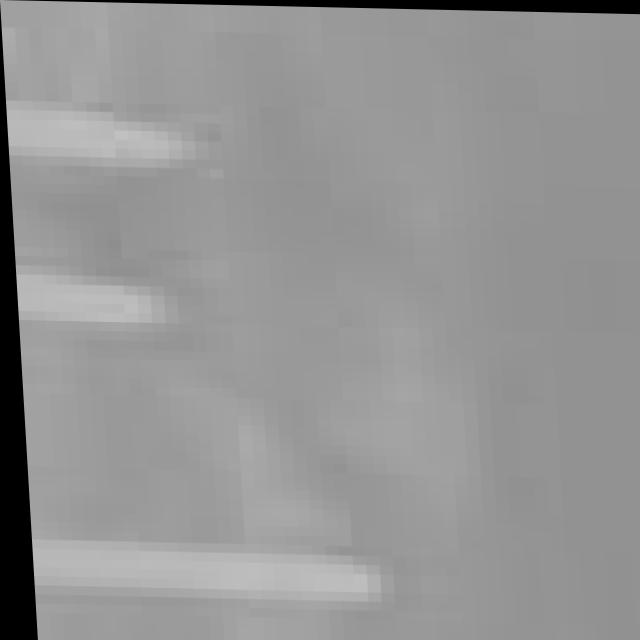fracture: (23, 2, 640, 640)
